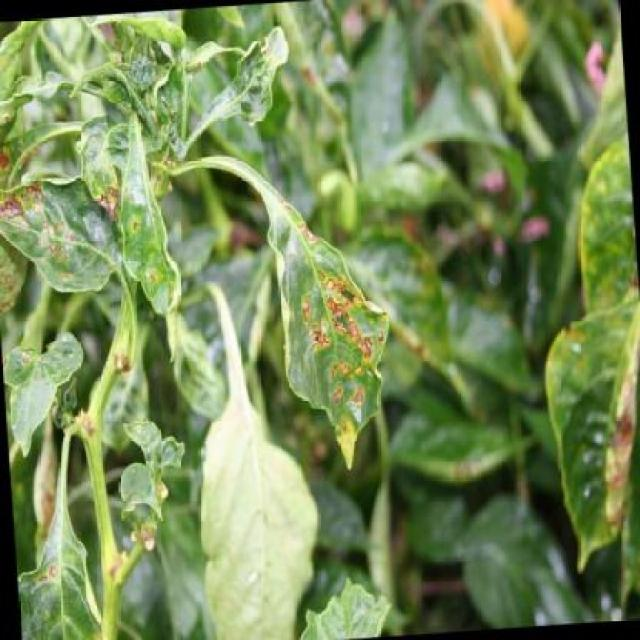Tomato leaf bacterial spot: (240, 164, 408, 478), (531, 282, 640, 584), (104, 123, 196, 326), (0, 143, 112, 298)
